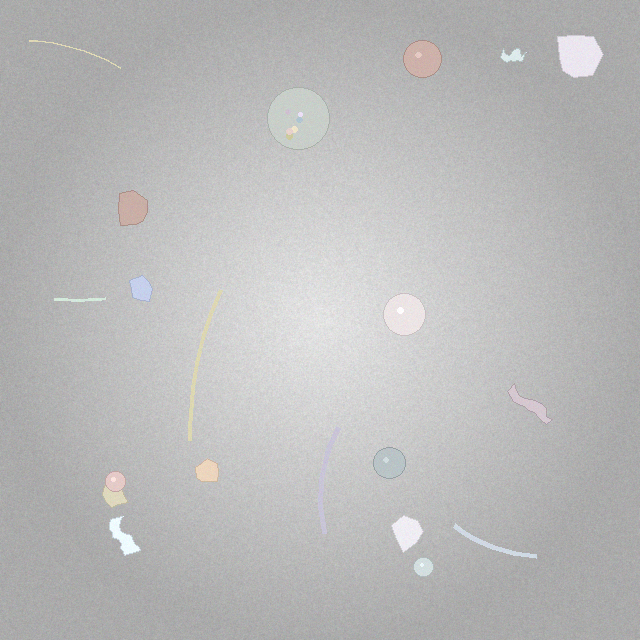fiber: (186, 286, 224, 444), (449, 520, 543, 562), (316, 423, 344, 538), (27, 38, 123, 70), (51, 296, 109, 303)
film: (508, 384, 552, 425), (109, 516, 140, 556), (501, 49, 526, 62)
foam: (267, 87, 329, 149)
fragment: (557, 36, 603, 78), (392, 516, 423, 553), (118, 191, 148, 226), (103, 479, 128, 508), (130, 276, 152, 301), (196, 458, 218, 482)
pellet: (384, 294, 426, 335), (404, 40, 441, 77), (374, 447, 405, 479), (105, 471, 126, 492), (414, 557, 434, 577)
